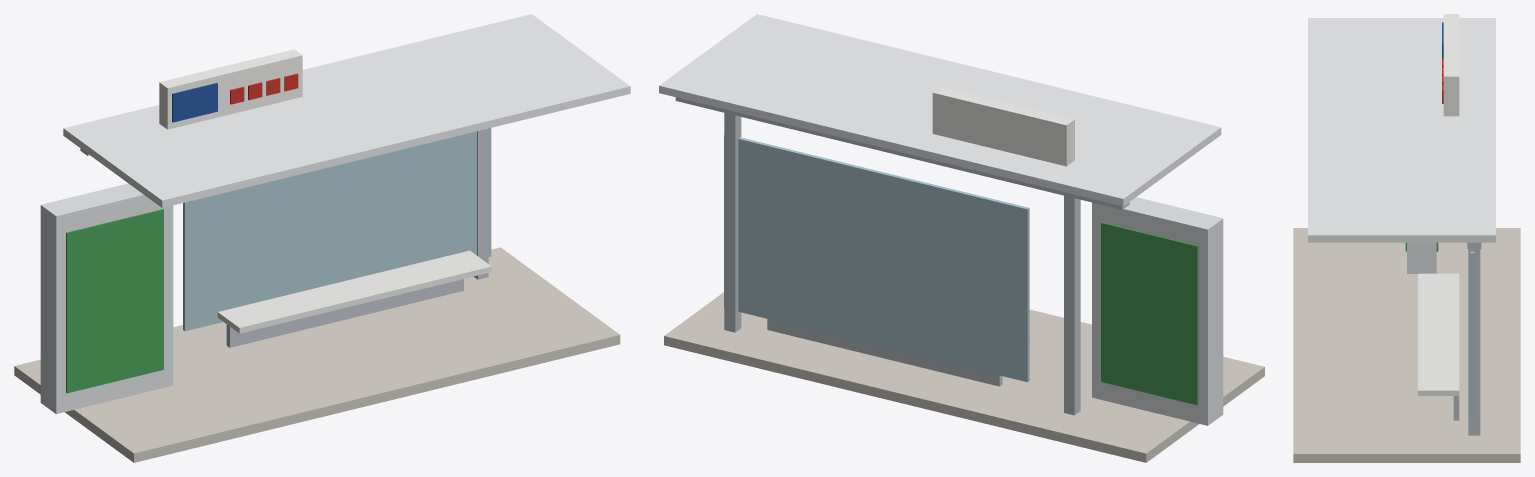
The model's file is ybs-shelter.glb.
The picture shows the model from 3 angles, left to right: view 1: azimuth 30°, elevation 25°; view 2: azimuth 150°, elevation 25°; view 3: azimuth 270°, elevation 25°; orthographic projection. The views are drawn at different scales.
Parts seen in each view (by area): view 1: part; view 2: part; view 3: part.
Boxes of the visible parts, x1,y1,x2,y2 form: part: [14, 14, 630, 462]; part: [659, 14, 1264, 462]; part: [1293, 14, 1520, 462].
Bounding box in the file's own units: 5.8 × 3.07 × 2.3.
